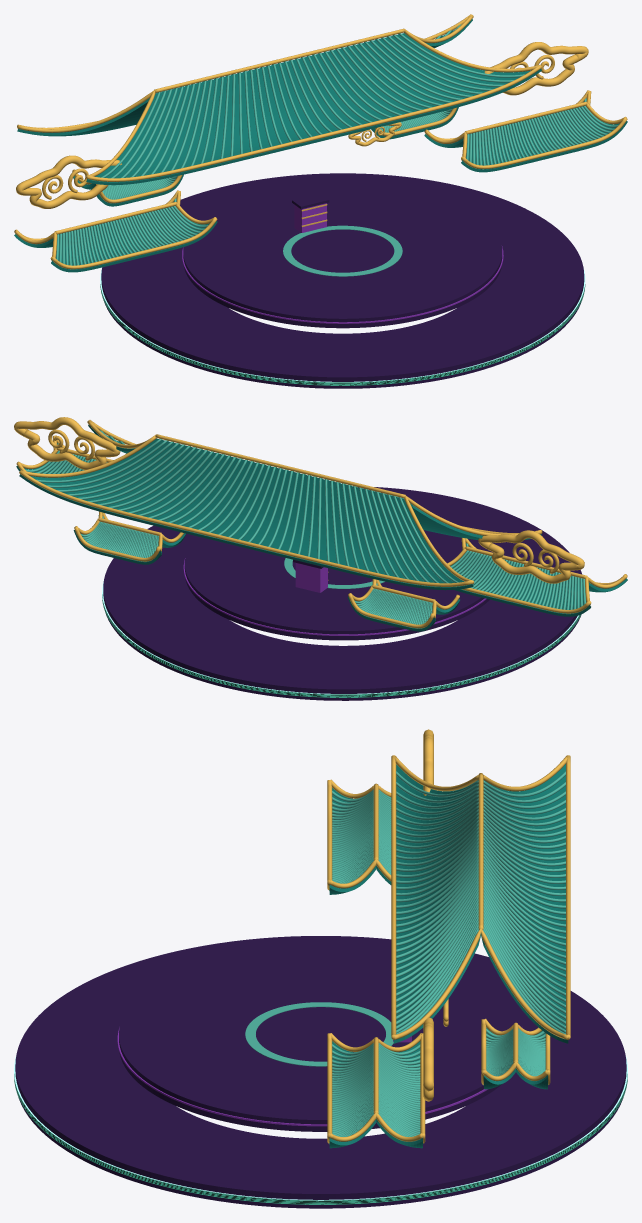
File: roof-led-surface-v3.glb
3 renders of one model, top to bottom at view 1: azimuth 30°, elevation 25°; view 2: azimuth 150°, elevation 25°; view 3: azimuth 270°, elevation 25°, orthographic. The views are drawn at different scales.
Parts seen in each view (by area): view 1: STAGE_OUTER finite annulus hidden rear inferred, STAGE_INNER annulus, ROOF_MAIN closed shell, STAGE_INNER central disk, ROOF_LEFT closed shell, ROOF_RIGHT closed shell, STAGE_OUTER LED front full circumference inferred, ROOF_MAIN gold front eave, CLOUD_0 silhouette decorative proxy, CLOUD_1 silhouette decorative proxy, STAGE_INNER silver band, ROOF_MAIN gold ridge (+8 smaller); view 2: STAGE_OUTER finite annulus hidden rear inferred, ROOF_MAIN closed shell, STAGE_INNER annulus, STAGE_OUTER LED front full circumference inferred, ROOF_LEFT closed shell, CLOUD_0 silhouette decorative proxy, ROOF_MAIN gold back eave inferred, CLOUD_1 silhouette decorative proxy, ROOF_MAIN gold ridge, ROOF_MAIN swept gable, ROOF_MAIN swept gable.001, DJ11 body inferred depth (+9 smaller); view 3: STAGE_OUTER finite annulus hidden rear inferred, STAGE_INNER annulus, ROOF_MAIN closed shell, STAGE_INNER central disk, STAGE_OUTER LED front full circumference inferred, STAGE_INNER silver band, ROOF_MAIN gold front eave, ROOF_MAIN swept gable.001, ROOF_MAIN gold back eave inferred, ROOF_MAIN swept gable, ROOF_MAIN gold ridge, CLOUD_1 silhouette decorative proxy (+43 smaller).
Part boxes in pixels (x1,y1,x2,y2): STAGE_OUTER finite annulus hidden rear inferred: (101,173,584,388); STAGE_INNER annulus: (183,184,502,328); ROOF_MAIN closed shell: (17,19,541,185); STAGE_INNER central disk: (291,229,394,272); ROOF_LEFT closed shell: (14,202,217,272); ROOF_RIGHT closed shell: (424,99,627,172); STAGE_OUTER LED front full circumference inferred: (100,268,585,385); ROOF_MAIN gold front eave: (86,65,541,181); CLOUD_0 silhouette decorative proxy: (16,155,121,208); CLOUD_1 silhouette decorative proxy: (484,42,588,95); STAGE_INNER silver band: (283,225,402,276); ROOF_MAIN gold ridge: (154,28,405,92); STAGE_OUTER finite annulus hidden rear inferred: (103,487,582,700); ROOF_MAIN closed shell: (19,424,541,590); STAGE_INNER annulus: (184,505,495,640); STAGE_OUTER LED front full circumference inferred: (102,580,580,697); ROOF_LEFT closed shell: (450,543,627,616); CLOUD_0 silhouette decorative proxy: (478,530,584,583); ROOF_MAIN gold back eave inferred: (19,470,473,586); CLOUD_1 silhouette decorative proxy: (14,417,120,469); ROOF_MAIN gold ridge: (155,434,405,498); ROOF_MAIN swept gable: (404,495,541,584); ROOF_MAIN swept gable.001: (22,420,156,477); DJ11 body inferred depth: (295,563,327,592); STAGE_OUTER finite annulus hidden rear inferred: (15,936,626,1208); STAGE_INNER annulus: (119,949,522,1131); ROOF_MAIN closed shell: (393,764,568,1043); STAGE_INNER central disk: (256,1007,385,1061); STAGE_OUTER LED front full circumference inferred: (14,1056,627,1204); STAGE_INNER silver band: (245,1002,393,1066); ROOF_MAIN gold front eave: (391,755,396,1039); ROOF_MAIN swept gable.001: (392,928,568,1039); ROOF_MAIN gold back eave inferred: (566,755,570,1039); ROOF_MAIN swept gable: (394,756,567,791); ROOF_MAIN gold ridge: (478,773,483,929); CLOUD_1 silhouette decorative proxy: (423,1017,433,1101).
Bounding box in the file's own units: 28.98 × 8.7 × 21.1.
7 materials, 1 textured.
